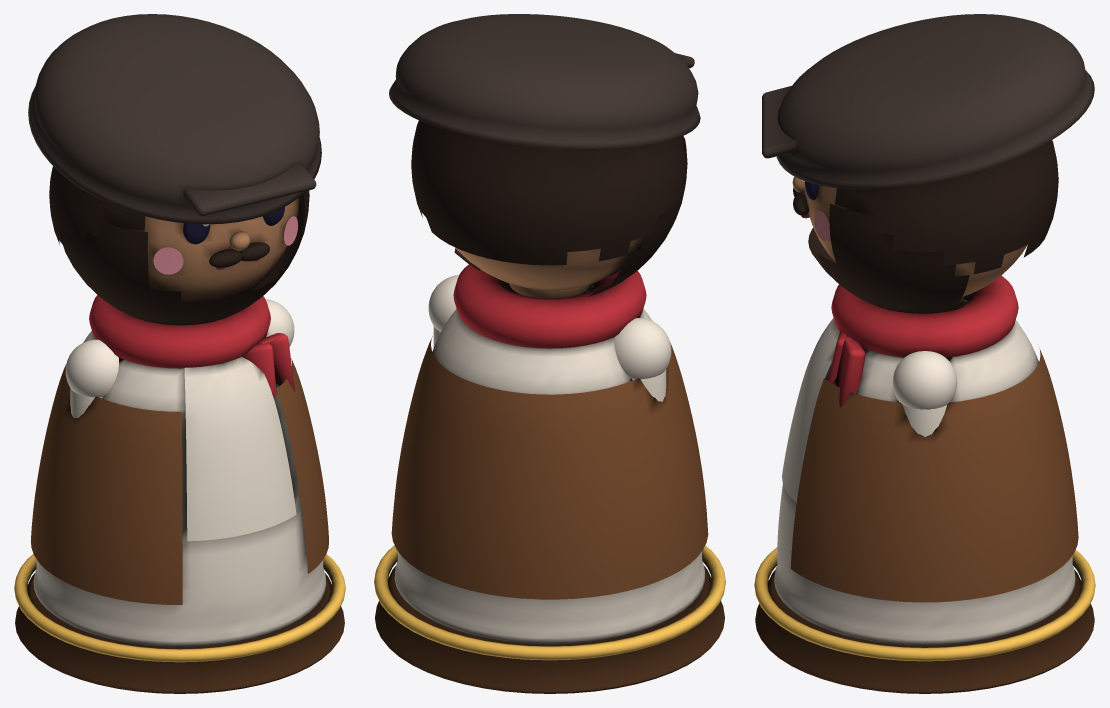
File: director.glb
The picture shows the model from 3 angles, left to right: view 1: azimuth 30°, elevation 25°; view 2: azimuth 150°, elevation 25°; view 3: azimuth 270°, elevation 25°; orthographic projection. The views are drawn at different scales.
Visible parts, largest first — view 1: part_cap_top, part_vest, part_body.001, part_shirt, part_base, part_beard, part_scarf, part_head.001, part_rim, part_hair, part_cap_brim, part_cap_R (+4 smaller); view 2: part_vest, part_cap_top, part_hair, part_body.001, part_base, part_scarf, part_rim, part_head.001, part_cap_R, part_beard, part_cap_L, part_neck; view 3: part_vest, part_cap_top, part_body.001, part_hair, part_base, part_beard, part_scarf, part_rim, part_shirt, part_cap_L, part_head.001, part_cap_brim (+2 smaller).
Boxes of the visible parts, bbox=[...] form: part_cap_top: bbox=[28, 14, 321, 224]; part_vest: bbox=[31, 358, 328, 604]; part_body.001: bbox=[33, 331, 326, 646]; part_shirt: bbox=[184, 357, 296, 541]; part_base: bbox=[15, 573, 344, 693]; part_beard: bbox=[59, 190, 309, 325]; part_scarf: bbox=[89, 295, 270, 368]; part_head.001: bbox=[129, 196, 300, 301]; part_rim: bbox=[14, 554, 345, 662]; part_hair: bbox=[49, 166, 145, 247]; part_cap_brim: bbox=[183, 161, 316, 216]; part_cap_R: bbox=[65, 339, 118, 397]; part_vest: bbox=[391, 336, 708, 599]; part_cap_top: bbox=[389, 14, 700, 149]; part_hair: bbox=[411, 120, 685, 265]; part_body.001: bbox=[394, 282, 705, 643]; part_base: bbox=[375, 566, 724, 693]; part_scarf: bbox=[453, 264, 646, 348]; part_rim: bbox=[374, 545, 725, 660]; part_head.001: bbox=[455, 236, 643, 290]; part_cap_R: bbox=[614, 318, 671, 379]; part_beard: bbox=[454, 136, 687, 296]; part_cap_L: bbox=[428, 275, 458, 331]; part_neck: bbox=[509, 283, 590, 298]; part_vest: bbox=[790, 349, 1078, 602]; part_cap_top: bbox=[776, 14, 1094, 189]; part_body.001: bbox=[774, 294, 1075, 645]; part_hair: bbox=[835, 56, 1058, 274]; part_base: bbox=[755, 569, 1094, 693]; part_beard: bbox=[808, 203, 969, 313]; part_scarf: bbox=[831, 275, 1018, 357]; part_rim: bbox=[754, 547, 1095, 661]; part_shirt: bbox=[782, 318, 839, 502]; part_cap_L: bbox=[892, 351, 957, 409]; part_head.001: bbox=[804, 181, 1027, 296]; part_cap_brim: bbox=[762, 86, 796, 158].
Bounding box in the file's own units: 0.656 × 1.23 × 0.656.
